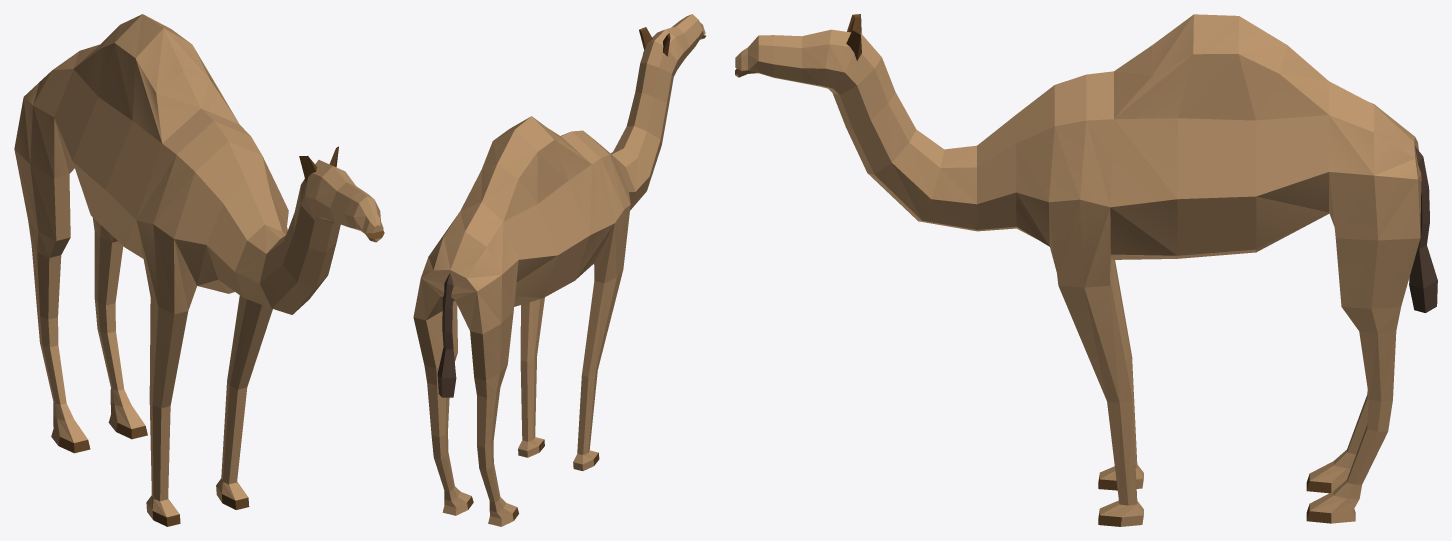
Rendered from camel_lod0.glb.
3 renders of one model, left to right at view 1: azimuth 30°, elevation 25°; view 2: azimuth 150°, elevation 25°; view 3: azimuth 270°, elevation 25°, orthographic. The views are drawn at different scales.
Parts seen in each view (by area): view 1: camel; view 2: camel; view 3: camel.
Boxes of the visible parts, x1,y1,x2,y2 form: camel: (14,14,384,526); camel: (413,14,705,526); camel: (735,14,1437,526).
Size of the model in its own units: 0.7289 by 2.4 by 3.12.
